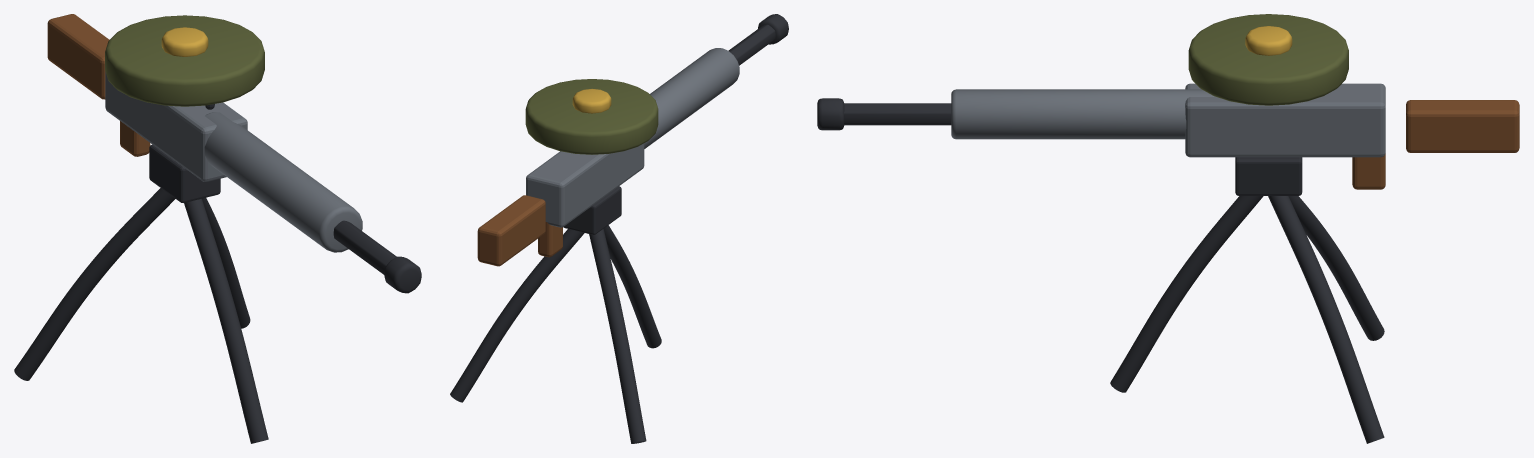
The model's file is mgun.glb.
3 renders of one model, left to right at view 1: azimuth 30°, elevation 25°; view 2: azimuth 150°, elevation 25°; view 3: azimuth 270°, elevation 25°, orthographic. The views are drawn at different scales.
Parts seen in each view (by area): view 1: barrel, tripod, mount; view 2: barrel, tripod, mount; view 3: barrel, tripod, mount.
Boxes of the visible parts, x1=… form: barrel: x1=47, y1=14, x2=421, y2=293; tripod: x1=14, y1=188, x2=268, y2=443; mount: x1=149, y1=144, x2=220, y2=202; barrel: x1=477, y1=14, x2=788, y2=266; tripod: x1=450, y1=225, x2=661, y2=443; mount: x1=563, y1=186, x2=621, y2=234; barrel: x1=817, y1=14, x2=1519, y2=189; tripod: x1=1110, y1=196, x2=1384, y2=443; mount: x1=1235, y1=157, x2=1302, y2=195.
Bounding box in the file's own units: 0.8106 × 1.18 × 2.1.
